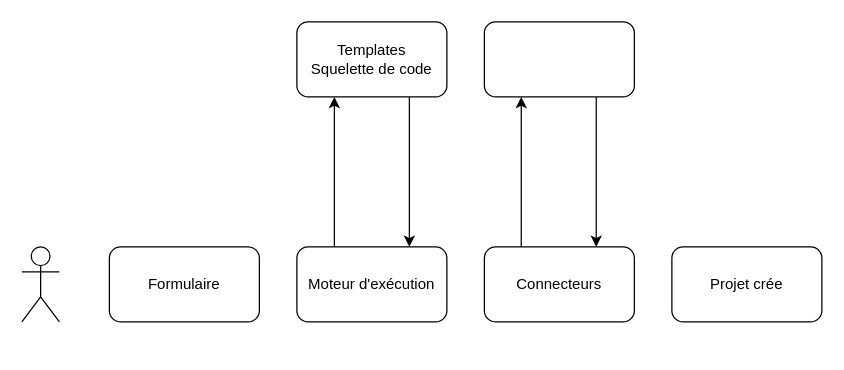
The diagram is 844 pixels wide and 370 high, and some of its shapes have lost their labels. Here are the shapes that lost their labels. From the top down, the centre of each, then its label:
At point (558, 59): "GitLab".
At point (40, 284): "Dev".
